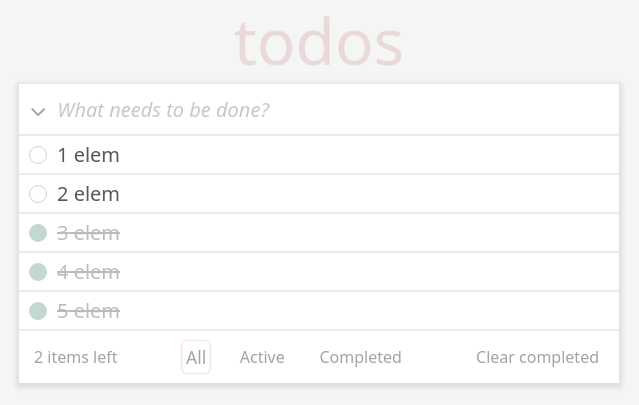
Test: Tests › Render only completed todos
Check: the number of elements with test id "todo-item" is 5, box top-left (19, 136), bottom-right (619, 175); top-left (19, 175), bottom-right (619, 214); top-left (19, 214), bottom-right (619, 253); top-left (19, 253), bottom-right (619, 292); top-left (19, 292), bottom-right (619, 331)
What coordinates should you click on to do the following:
click the text with test id "category-completed"
I would click on:
 (361, 357)
Its box is top-left (314, 341), bottom-right (407, 373).
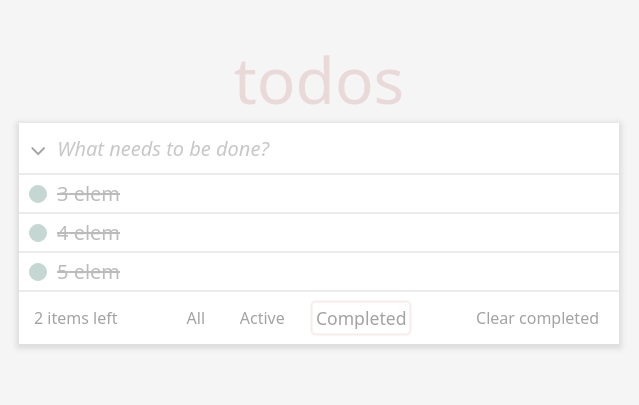
Check: the number of elements with test id "todo-item" is 3, box top-left (19, 175), bottom-right (619, 214); top-left (19, 214), bottom-right (619, 253); top-left (19, 253), bottom-right (619, 292)
